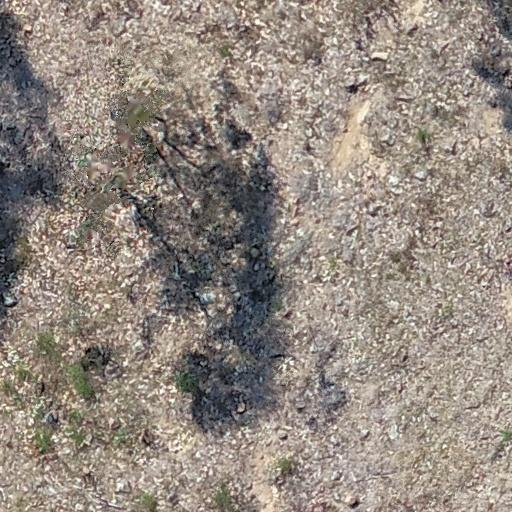stone: (412, 164, 430, 182), (115, 476, 131, 493), (2, 293, 17, 308), (107, 417, 122, 431), (372, 52, 391, 62), (45, 411, 57, 424), (359, 427, 371, 440), (406, 22, 417, 34), (236, 401, 246, 414), (346, 496, 358, 506), (462, 87, 470, 98), (280, 429, 288, 439), (366, 171, 374, 179), (258, 454, 267, 460), (265, 437, 271, 446)
